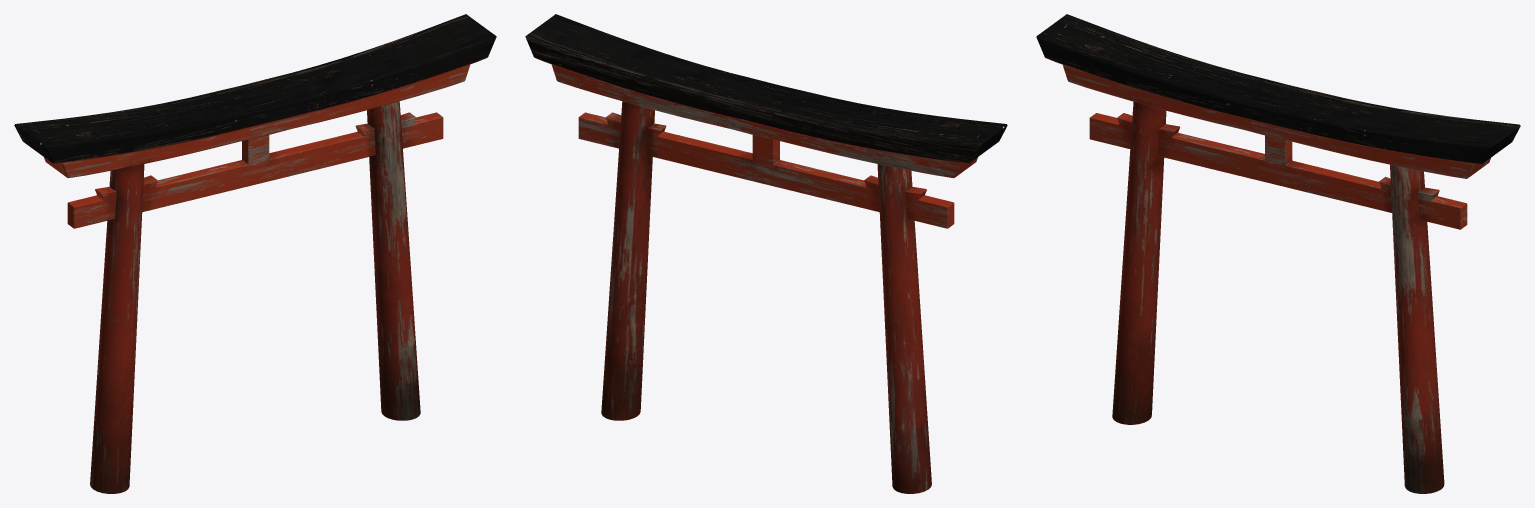
The model's file is japanese_tori_gate.glb.
3 views of the same model, side by side, from view 1: azimuth 30°, elevation 25°; view 2: azimuth 150°, elevation 25°; view 3: azimuth 330°, elevation 25° (orthographic).
Visible parts, largest first — view 1: pCube3_lambert1_0; view 2: pCube3_lambert1_0; view 3: pCube3_lambert1_0.
Boxes of the visible parts, x1,y1,x2,y2 form: pCube3_lambert1_0: [14, 14, 496, 493]; pCube3_lambert1_0: [525, 14, 1007, 493]; pCube3_lambert1_0: [1036, 14, 1520, 493].
Bounding box in the file's own units: 18.69 × 14.6 × 2.21.
Materials: 1 (1 with a texture image).
